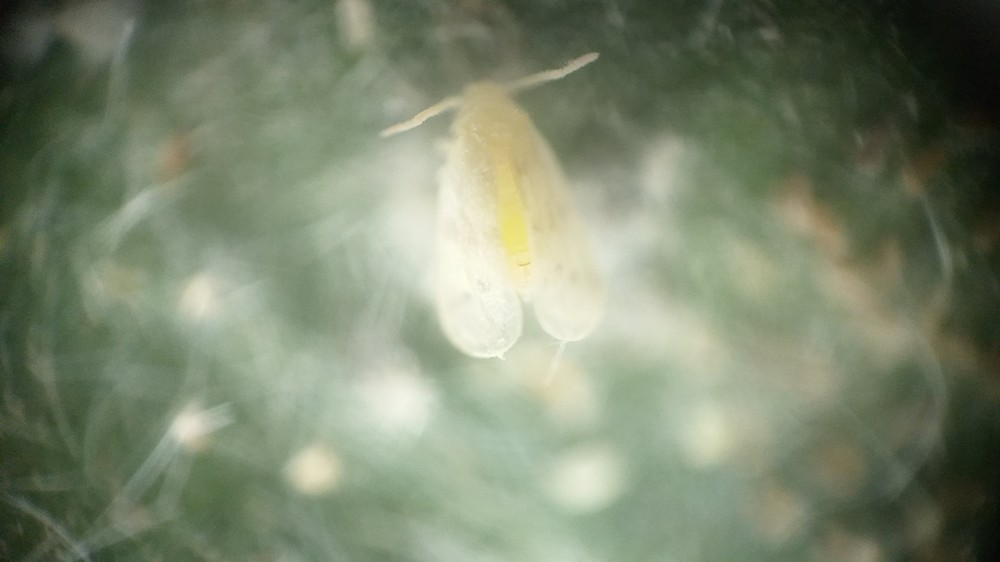Mosca Blanca: (363, 48, 628, 370)
